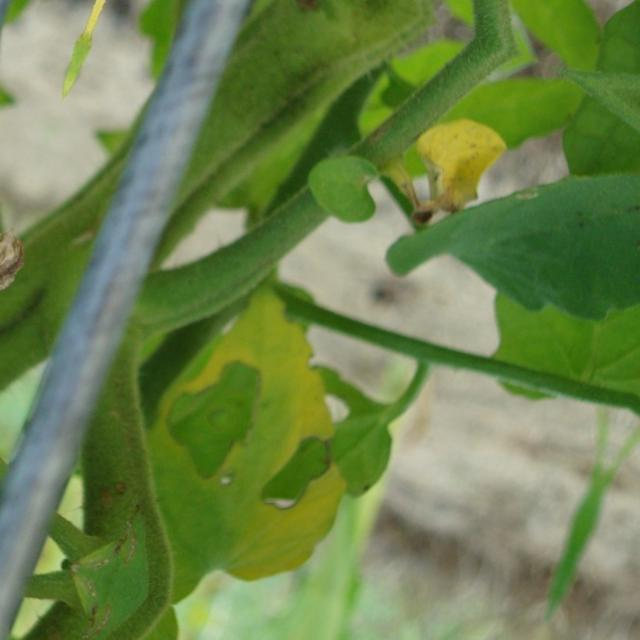Tomato Early blight leaf: (17, 0, 150, 221)
